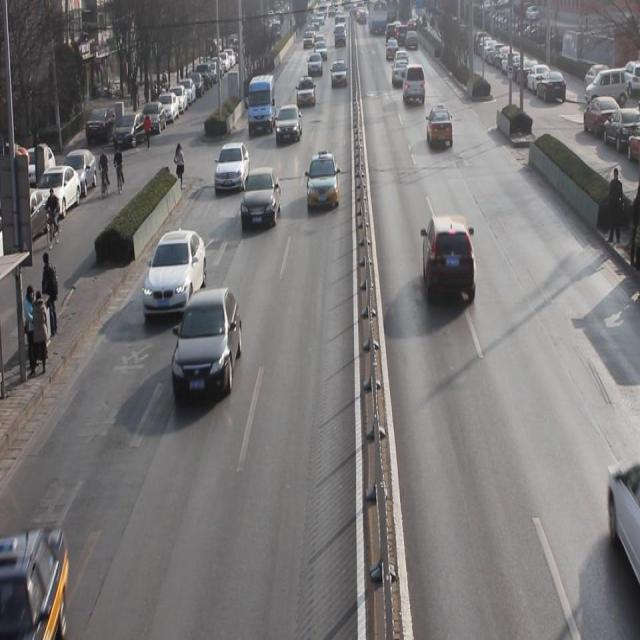car: (175, 290, 242, 404), (421, 214, 478, 309), (144, 234, 207, 314), (240, 170, 283, 232), (306, 152, 341, 216), (214, 140, 249, 192), (426, 107, 454, 150), (276, 106, 303, 148), (295, 75, 315, 110), (331, 59, 348, 90), (307, 52, 323, 80)
truck: (246, 72, 276, 138), (403, 63, 426, 105)
